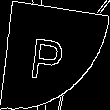P_N: (35, 27, 75, 83)
